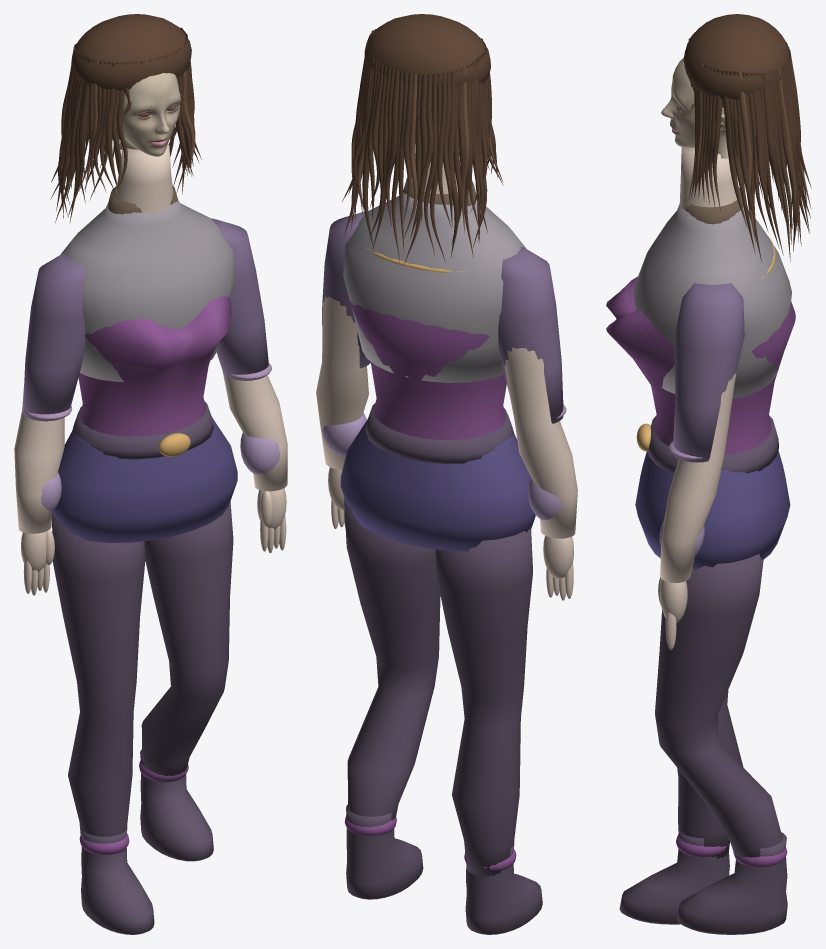
The model's file is katie_walk_6.glb.
3 views of the same model, side by side, from view 1: azimuth 30°, elevation 25°; view 2: azimuth 150°, elevation 25°; view 3: azimuth 270°, elevation 25° (orthographic). The views are drawn at different scales.
Visible parts, largest first — view 1: Continuous trouser leg, Katie linen underlayer, Continuous trouser leg.001, Fitted hip panel, Violet sweetheart bodice, Katie hair locks, Katie smooth sleeve, Katie hair crown, Fitted boot, Katie smooth sleeve.001, Fitted boot.001, Continuous arm (+10 smaller); view 2: Continuous trouser leg, Katie linen underlayer, Continuous trouser leg.001, Katie hair locks, Fitted hip panel, Violet sweetheart bodice, Continuous arm, Katie smooth sleeve, Katie hair crown, Continuous arm.001, Fitted boot.001, Fitted boot (+6 smaller); view 3: Continuous trouser leg.001, Katie linen underlayer, Katie hair locks, Katie smooth sleeve.001, Fitted hip panel, Violet sweetheart bodice, Katie hair crown, Fitted boot.001, Continuous arm.001, Fitted boot, Continuous trouser leg, Imported Katie katie (+7 smaller).
Boxes of the visible parts, <box> form: Continuous trouser leg: <box>52,511,145,839</box>; Katie linen underlayer: <box>60,199,235,381</box>; Continuous trouser leg.001: <box>141,501,233,782</box>; Fitted hip panel: <box>52,416,237,542</box>; Violet sweetheart bodice: <box>78,296,231,436</box>; Katie hair locks: <box>50,29,201,223</box>; Katie smooth sleeve: <box>23,252,85,421</box>; Katie hair crown: <box>71,14,191,92</box>; Fitted boot: <box>81,827,154,934</box>; Katie smooth sleeve.001: <box>211,218,268,380</box>; Fitted boot.001: <box>140,749,213,861</box>; Continuous arm: <box>14,384,64,533</box>; Continuous trouser leg: <box>435,529,532,876</box>; Katie linen underlayer: <box>343,192,526,382</box>; Continuous trouser leg.001: <box>344,497,440,820</box>; Katie hair locks: <box>342,29,503,265</box>; Fitted hip panel: <box>340,419,535,551</box>; Violet sweetheart bodice: <box>350,301,506,439</box>; Continuous arm: <box>504,347,577,538</box>; Katie smooth sleeve: <box>498,246,563,423</box>; Katie hair crown: <box>364,14,490,87</box>; Continuous arm.001: <box>316,296,368,469</box>; Fitted boot.001: <box>346,804,423,899</box>; Fitted boot: <box>465,842,542,934</box>; Continuous trouser leg.001: <box>655,553,782,866</box>; Katie linen underlayer: <box>633,204,791,398</box>; Katie hair locks: <box>687,32,811,262</box>; Katie smooth sleeve.001: <box>673,283,744,462</box>; Fitted hip panel: <box>635,450,790,569</box>; Violet sweetheart bodice: <box>606,276,795,455</box>; Katie hair crown: <box>683,14,789,107</box>; Fitted boot.001: <box>677,832,787,934</box>; Continuous arm.001: <box>660,372,736,583</box>; Fitted boot: <box>619,827,729,924</box>; Continuous trouser leg: <box>677,690,743,858</box>; Imported Katie katie: <box>661,57,728,158</box>.
Bounding box in the file's own units: 0.6866 × 2.23 × 0.4567.
15 materials, 2 textured.
